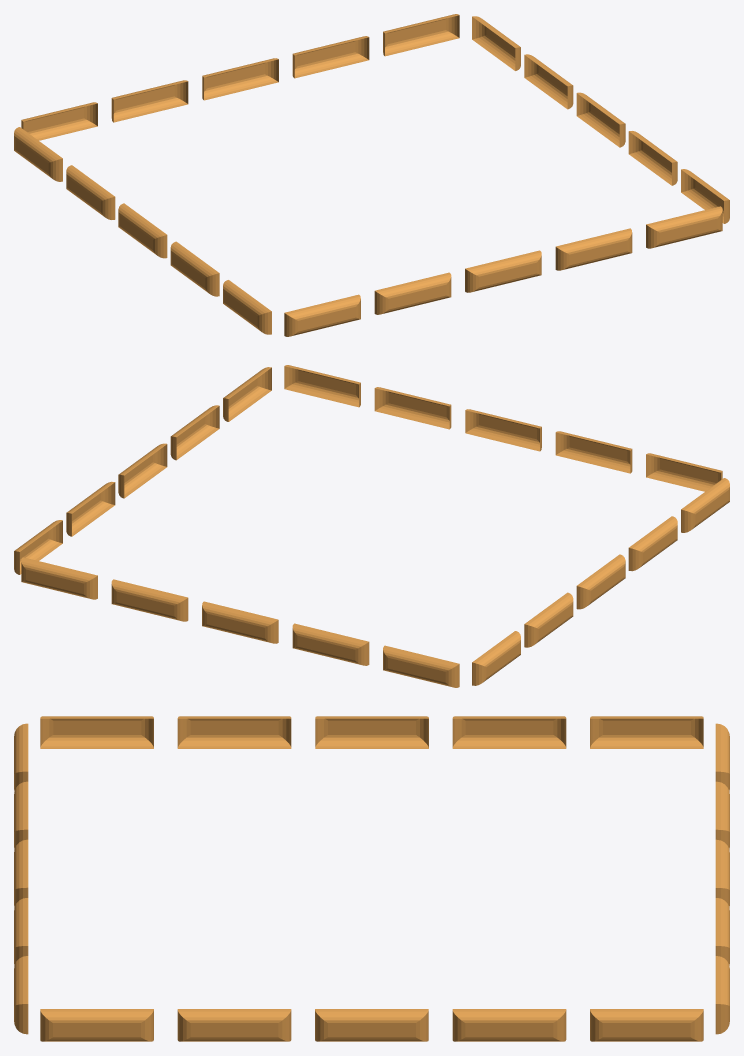
Rendered from roof-decor.gltf.
3 renders of one model, top to bottom at view 1: azimuth 30°, elevation 25°; view 2: azimuth 150°, elevation 25°; view 3: azimuth 270°, elevation 25°, orthographic. The views are drawn at different scales.
Parts seen in each view (by area): view 1: Plane.011; view 2: Plane.011; view 3: Plane.011.
Part boxes in pixels (box(x1,y1,x2,y2)): Plane.011: box(14, 14, 729, 336); Plane.011: box(14, 365, 729, 687); Plane.011: box(14, 716, 729, 1041).
Bounding box in the file's own units: 1.85 × 0.0865 × 1.85.
Materials: 1 (1 with a texture image).
